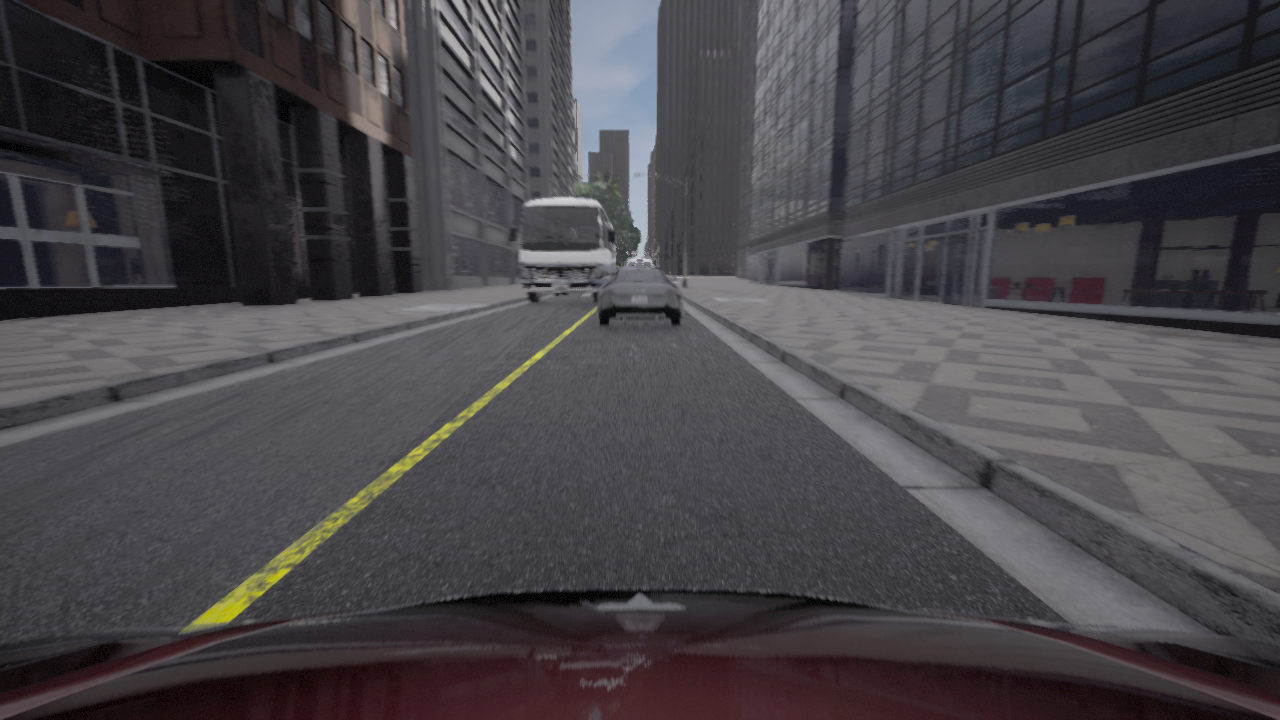cyclist: (0, 588, 1279, 719), (509, 197, 615, 302), (597, 266, 682, 325), (626, 257, 653, 266)
